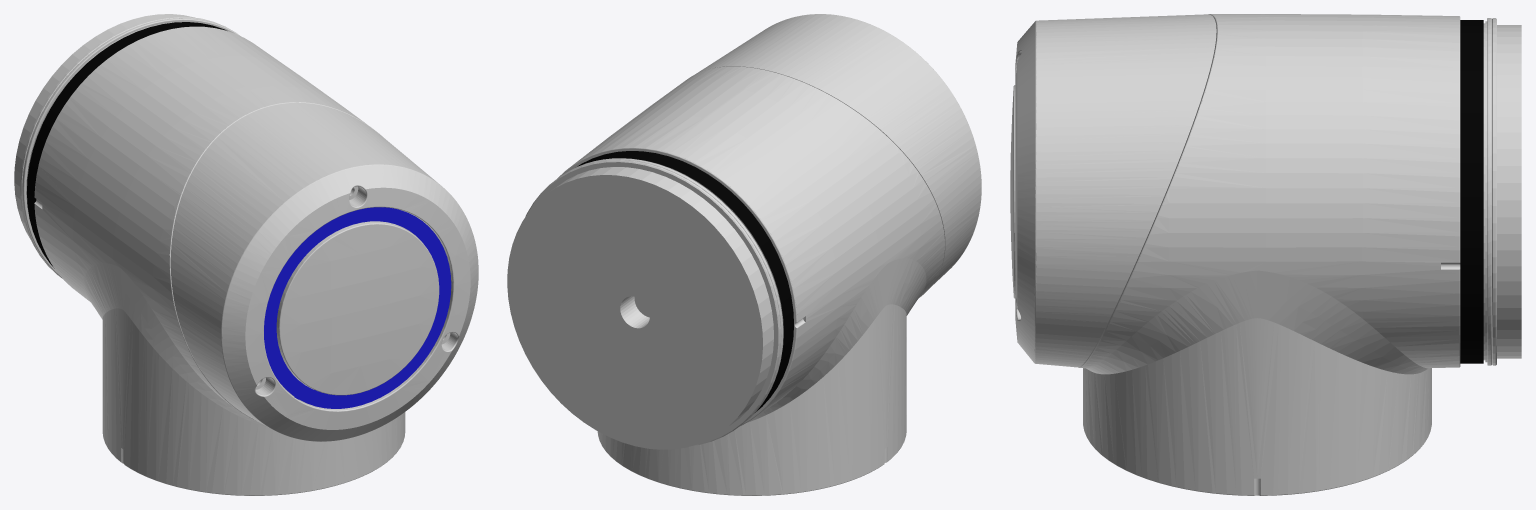
Rendered from symphony10_4_w.dae.
3 views of the same model, side by side, from view 1: azimuth 30°, elevation 25°; view 2: azimuth 150°, elevation 25°; view 3: azimuth 270°, elevation 25° (orthographic). The views are drawn at different scales.
Parts seen in each view (by area): view 1: link4; view 2: link4; view 3: link4.
Boxes of the visible parts, left/top/right/bottom form: link4: left=14, top=14, right=478, bottom=495; link4: left=507, top=14, right=981, bottom=495; link4: left=1010, top=14, right=1521, bottom=495.
Bounding box in the file's own units: 0.0917 × 0.1318 × 0.1114.
